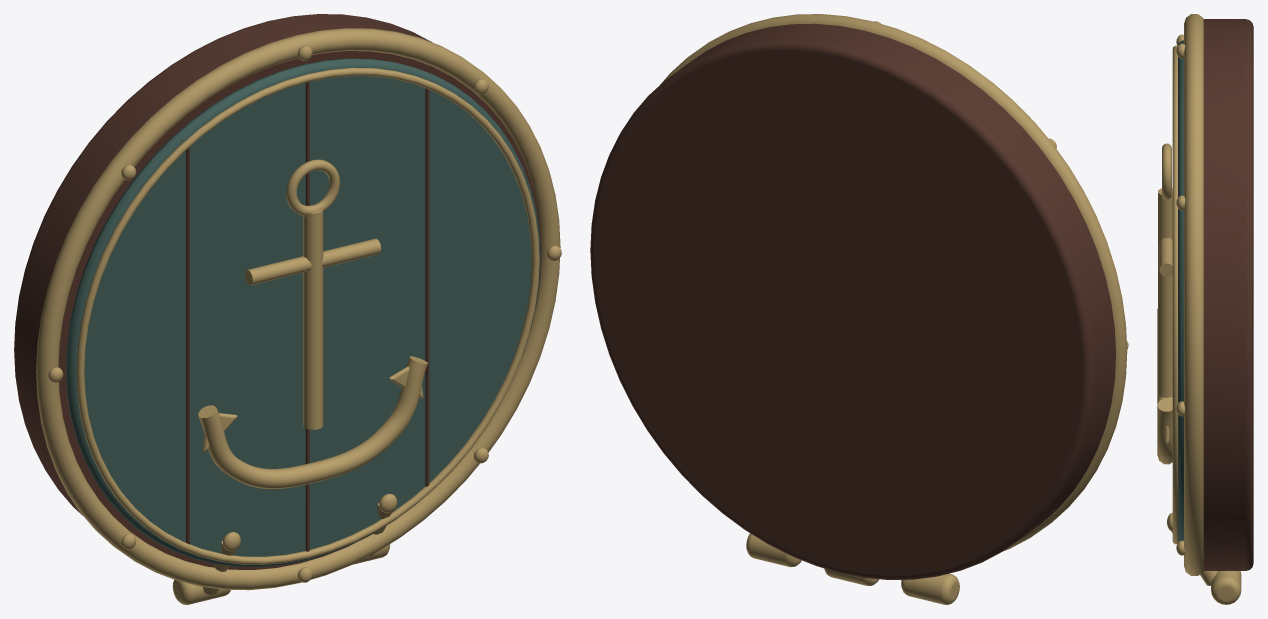
Rendered from shield.glb.
The picture shows the model from 3 angles, left to right: view 1: azimuth 30°, elevation 25°; view 2: azimuth 150°, elevation 25°; view 3: azimuth 270°, elevation 25°; orthographic projection. The views are drawn at different scales.
Visible parts, largest first — view 1: shield_Body_crew_shield_wood, shield_Body_crew_brass, shield_Body_carved_mahogany; view 2: shield_Body_carved_mahogany, shield_Body_crew_brass; view 3: shield_Body_carved_mahogany, shield_Body_crew_brass, shield_Body_crew_shield_wood.
Part boxes in pixels (box(x1,y1,x2,y2)): shield_Body_crew_shield_wood: box(66, 58, 540, 567); shield_Body_crew_brass: box(36, 28, 561, 604); shield_Body_carved_mahogany: box(14, 14, 541, 569); shield_Body_carved_mahogany: box(590, 23, 1115, 579); shield_Body_crew_brass: box(660, 14, 1128, 604); shield_Body_carved_mahogany: box(1203, 19, 1253, 570); shield_Body_crew_brass: box(1157, 14, 1241, 604); shield_Body_crew_shield_wood: box(1178, 40, 1183, 542).
Size of the model in its own units: 0.8923 by 0.9102 by 0.1525.
